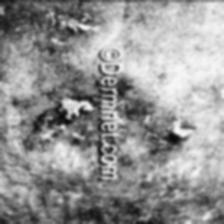Potentially Malignant Skin Tumors: (28, 99, 94, 145), (170, 120, 202, 136)
